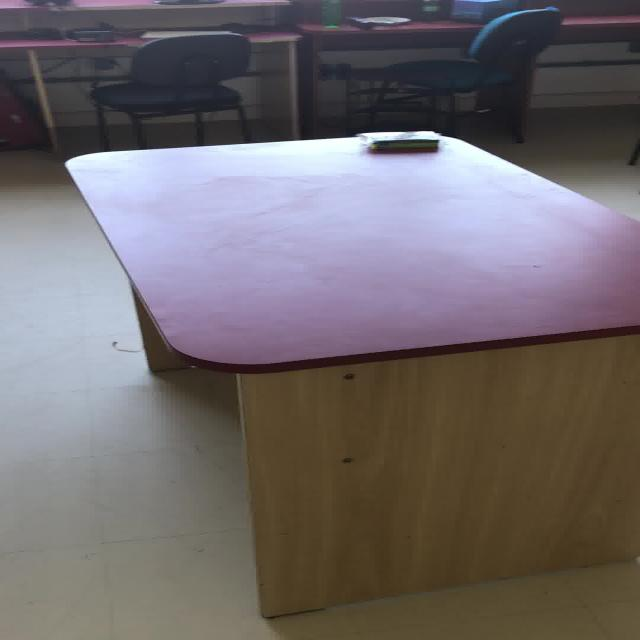sponge: (355, 130, 441, 149), (368, 138, 439, 149)
